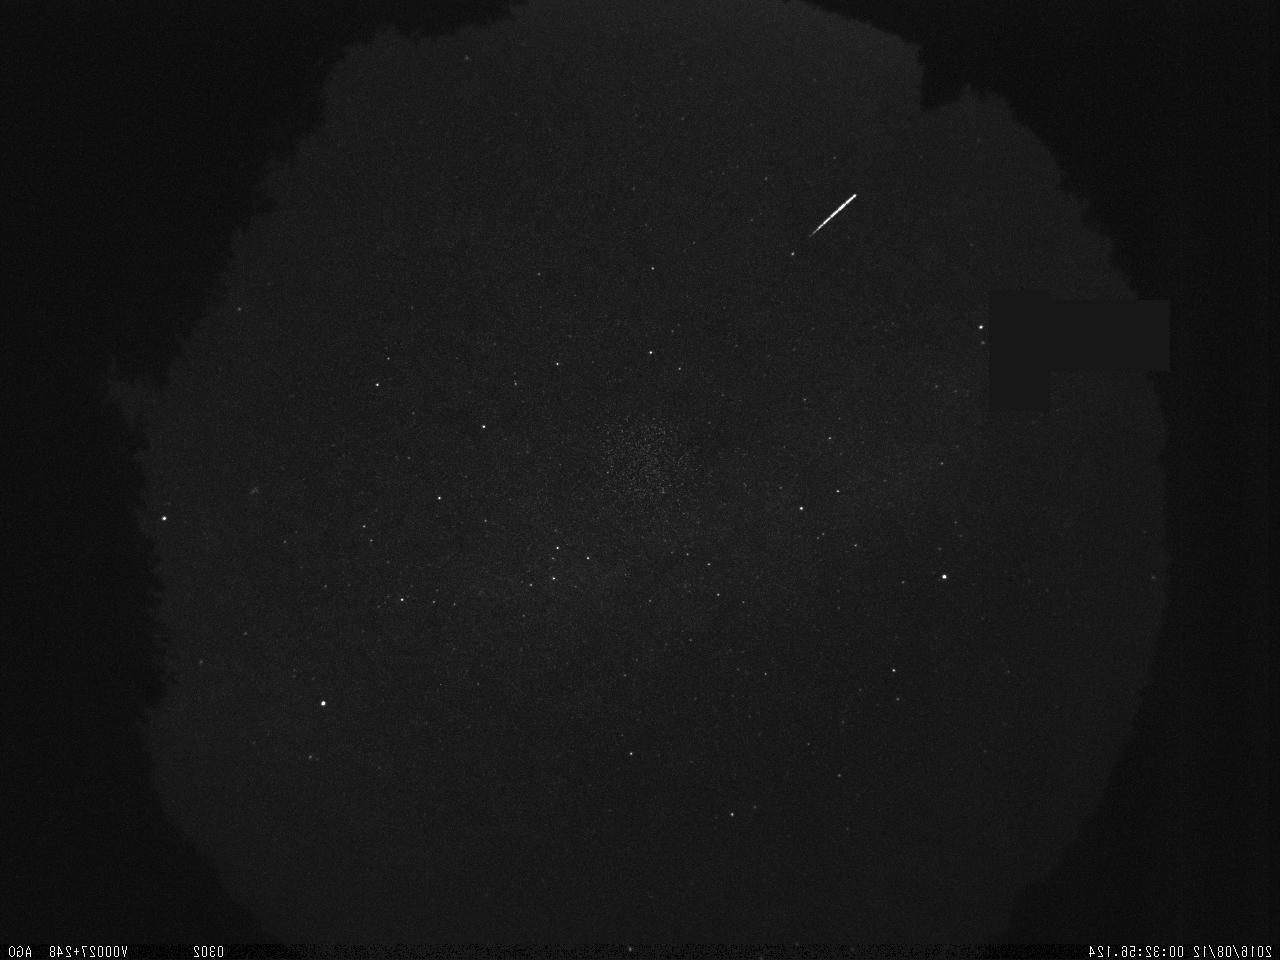meteor: (794, 186, 865, 244)
